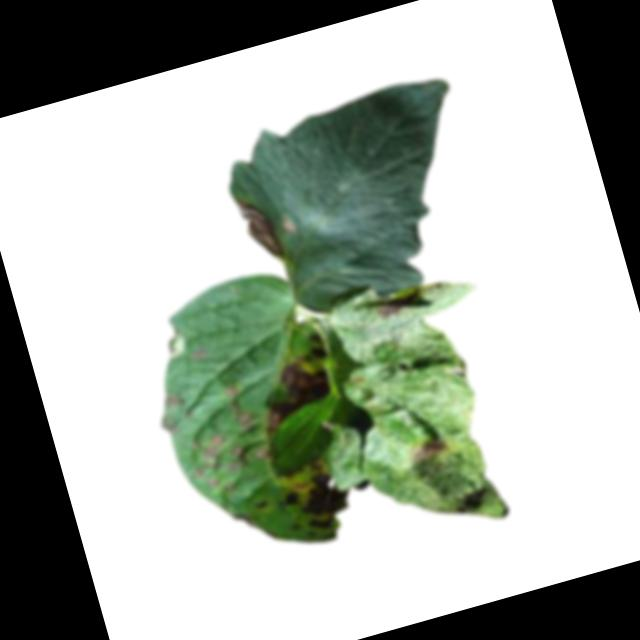Early_blight: (247, 339, 345, 435), (283, 464, 359, 537), (233, 190, 289, 267), (223, 381, 257, 440), (405, 434, 452, 466), (196, 430, 227, 461), (222, 445, 249, 473), (372, 297, 400, 319), (248, 494, 270, 512), (249, 446, 270, 463)
